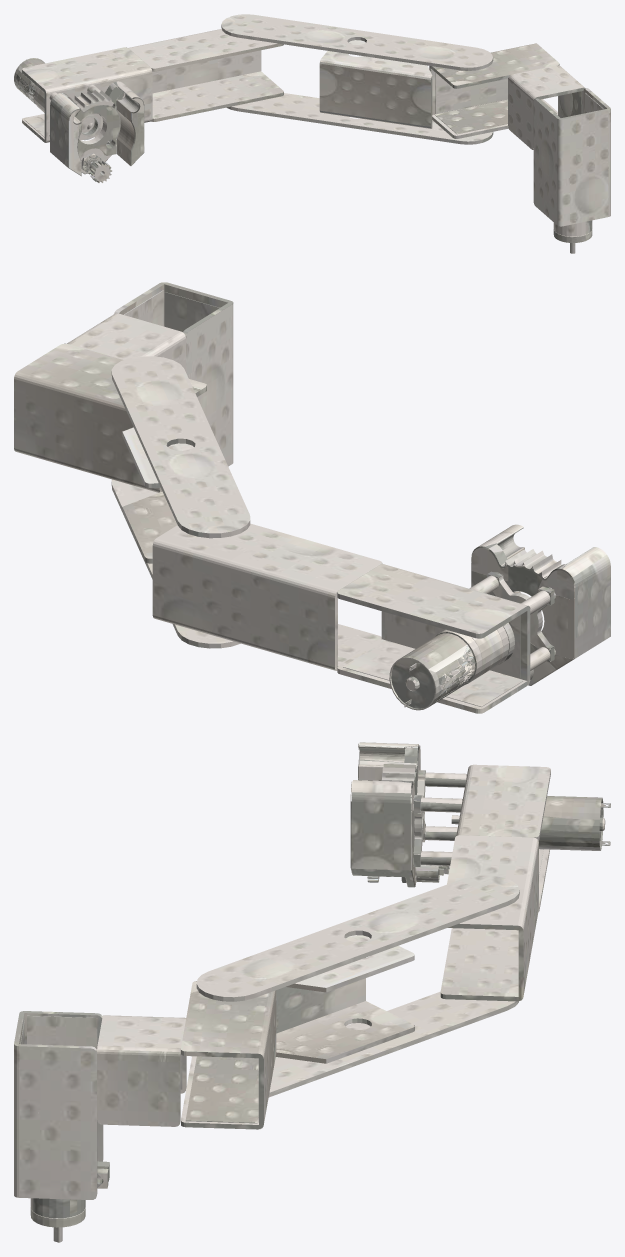
Rendered from bogie_right.dae.
3 renders of one model, top to bottom at view 1: azimuth 30°, elevation 25°; view 2: azimuth 150°, elevation 25°; view 3: azimuth 270°, elevation 25°, orthographic. The views are drawn at different scales.
Parts seen in each view (by area): view 1: bogie_right; view 2: bogie_right; view 3: bogie_right.
Boxes of the visible parts, x1,y1,x2,y2 form: bogie_right: (14,14,610,253); bogie_right: (14,282,610,713); bogie_right: (14,742,610,1242).
Size of the model in its own units: 0.3231 by 0.2719 by 0.1147.
1 material, 1 textured.
